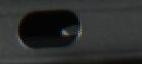holes: (15, 8, 83, 49)
